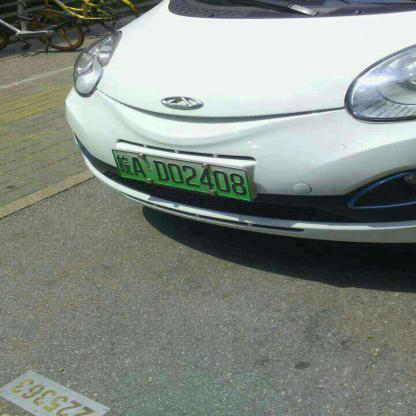lp: (113, 148, 249, 200)
